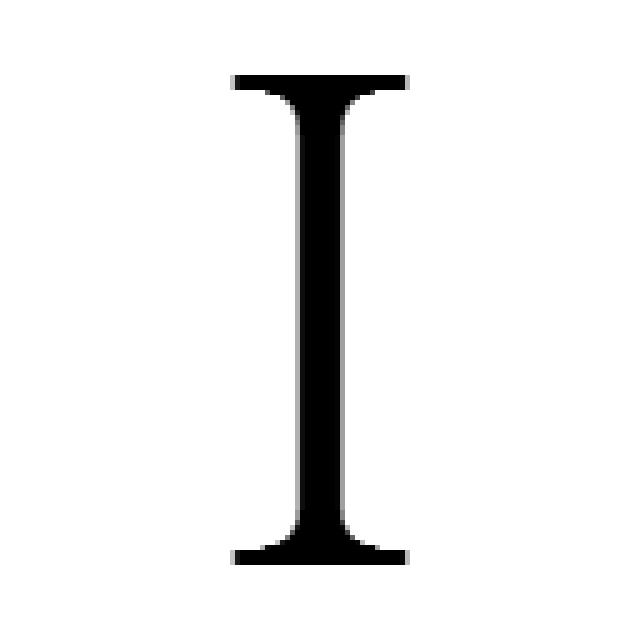I: (230, 75, 410, 570)
